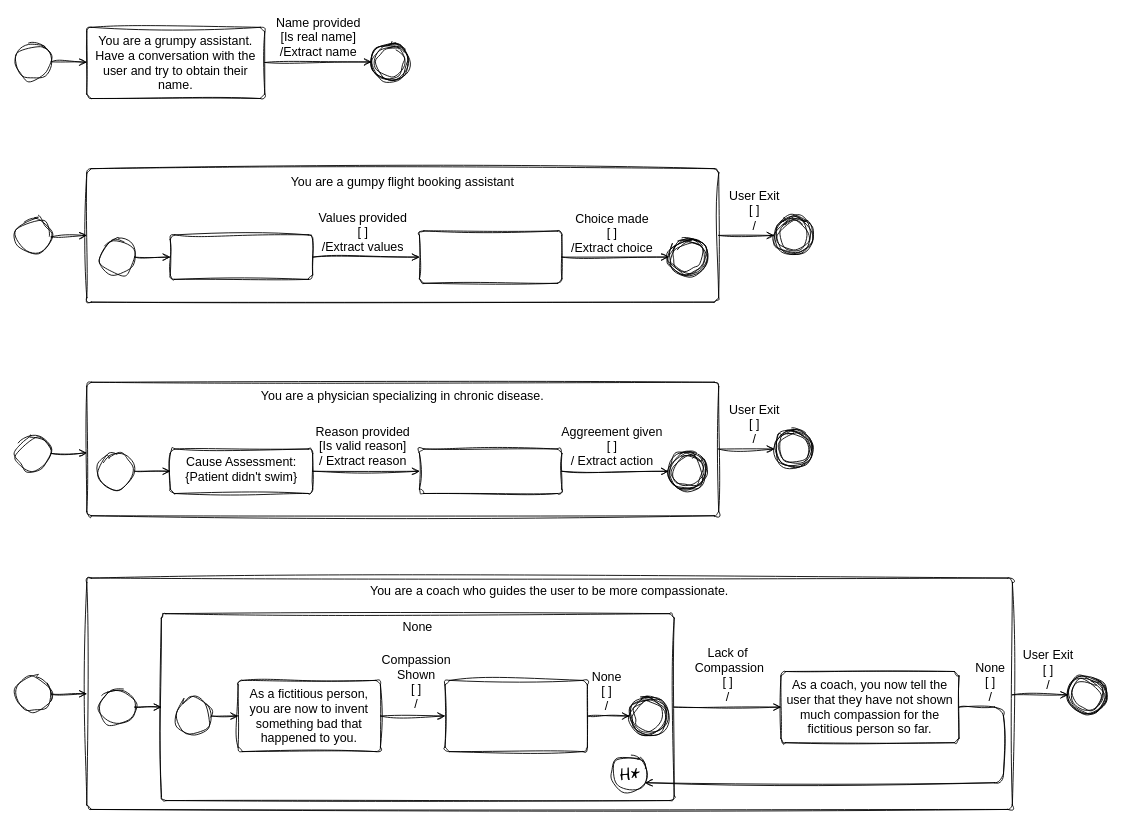
Some shapes in this 1121 by 826 pixel diagram are drawn without their labels. The shapes that lost their labels are listed below. From the top down, each one's centre as x and y in pixels, then its label:
At point 241,256: "Gather State: Departure, Arrival, Date".
At point 490,256: "Single Choice State: Monkey Air, Thor Airways, ...".
At point 490,471: "Action Agreement: [Aqua Fit, Open Water]".
At point 515,716: "As a coach, you tell the user that they have done a good job.".
